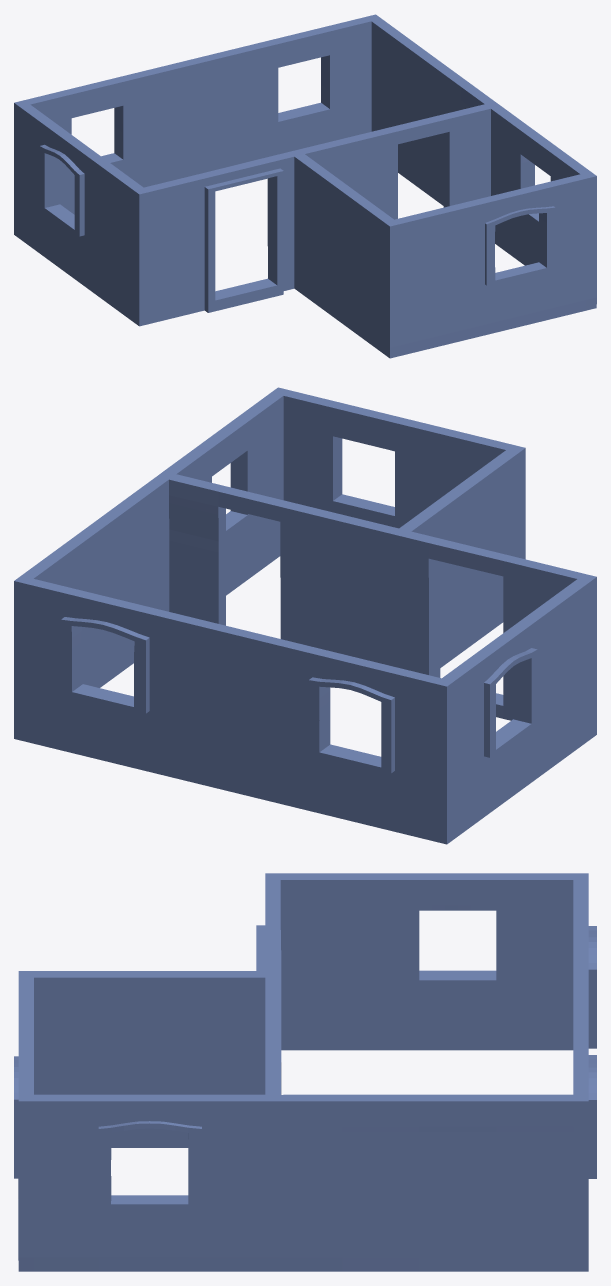
The model's file is walls-part.glb.
3 views of the same model, one above another, from view 1: azimuth 30°, elevation 25°; view 2: azimuth 150°, elevation 25°; view 3: azimuth 270°, elevation 25° (orthographic). The views are drawn at different scales.
Parts seen in each view (by area): view 1: walls; view 2: walls; view 3: walls.
Part boxes in pixels (x1=…): walls: x1=14, y1=14, x2=596, y2=358; walls: x1=14, y1=387, x2=596, y2=844; walls: x1=14, y1=873, x2=596, y2=1271.
Bounding box in the file's own units: 7.18 × 2.44 × 7.57.
